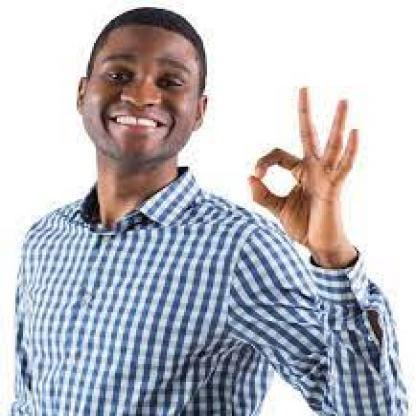ok: (244, 78, 363, 257)
